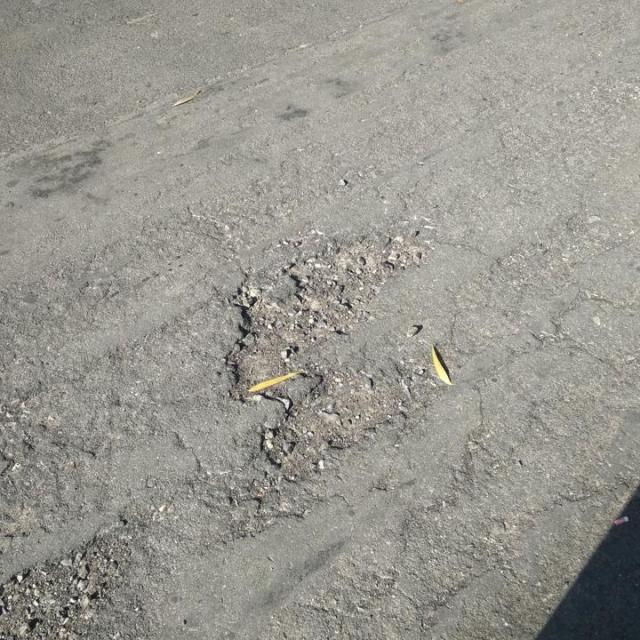Pothole: (217, 233, 448, 475), (1, 529, 140, 639)
